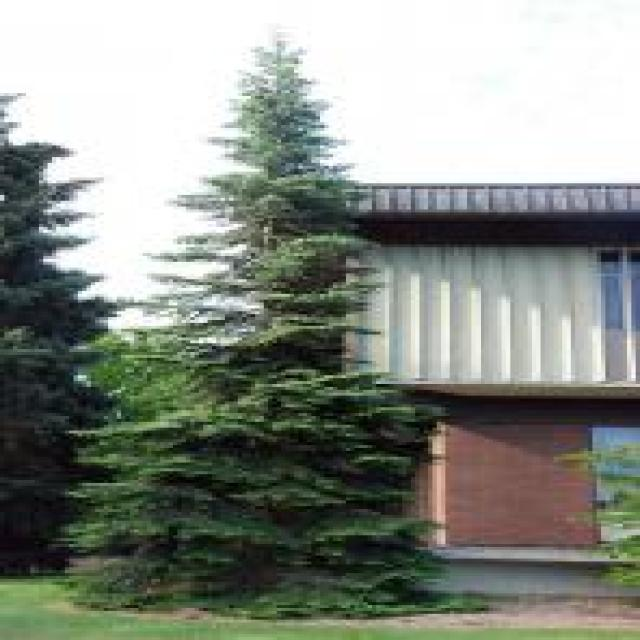Abies: (63, 28, 451, 603)
